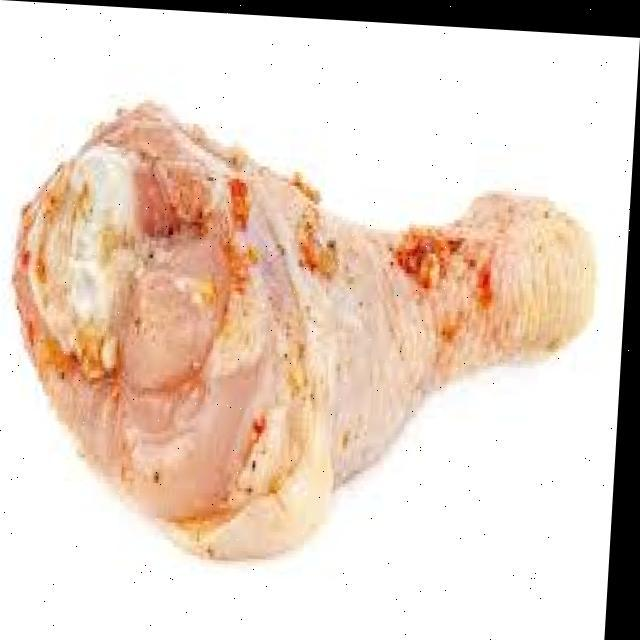leg: (4, 82, 605, 576)
